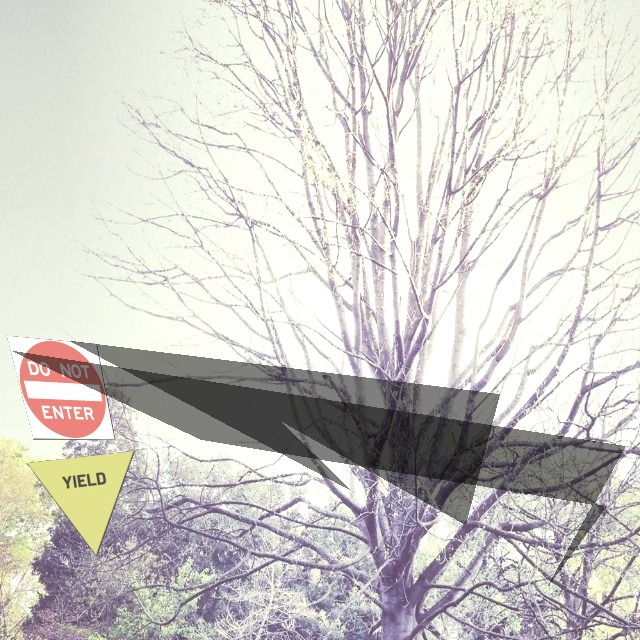DO_NOT_ENTER: (6, 335, 115, 440)
YIELD: (26, 450, 135, 557)
